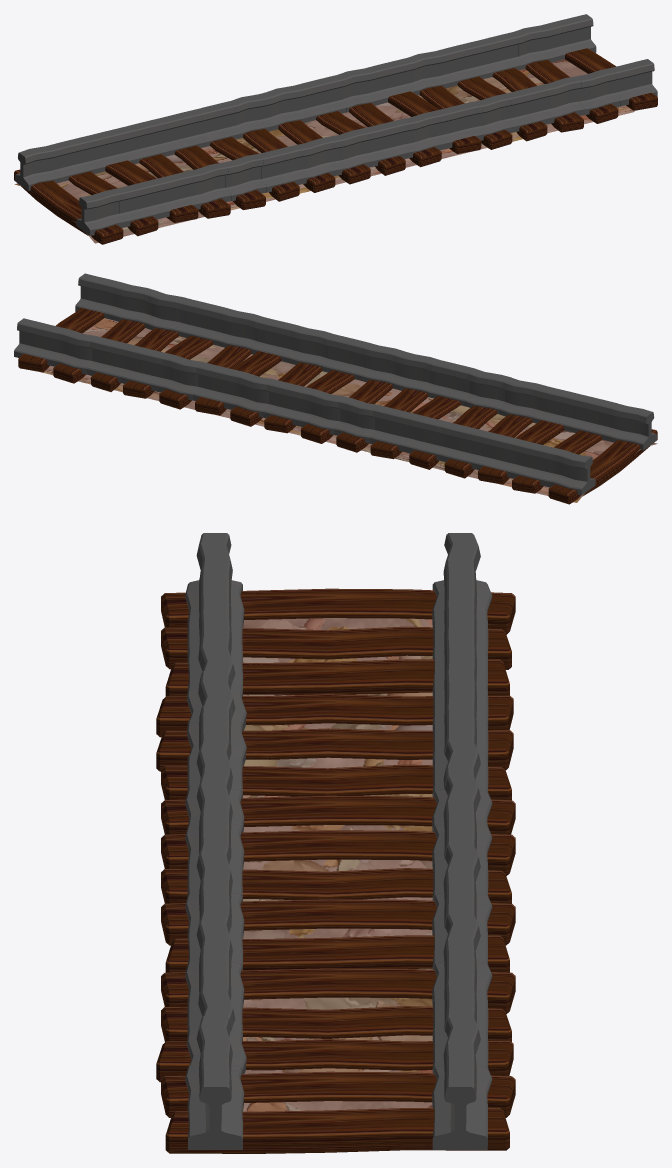
Rendered from Rail_Straight.fbx.
3 renders of one model, top to bottom at view 1: azimuth 30°, elevation 25°; view 2: azimuth 150°, elevation 25°; view 3: azimuth 270°, elevation 25°, orthographic. The views are drawn at different scales.
Visible parts, largest first — view 1: StraightRail; view 2: StraightRail; view 3: StraightRail.
Boxes of the visible parts, bbox=[...] form: StraightRail: bbox=[14, 14, 657, 244]; StraightRail: bbox=[14, 273, 657, 504]; StraightRail: bbox=[156, 533, 515, 1153].
Bounding box in the file's own units: 749 × 47.58 × 205.
Materials: 3 (2 with a texture image).
